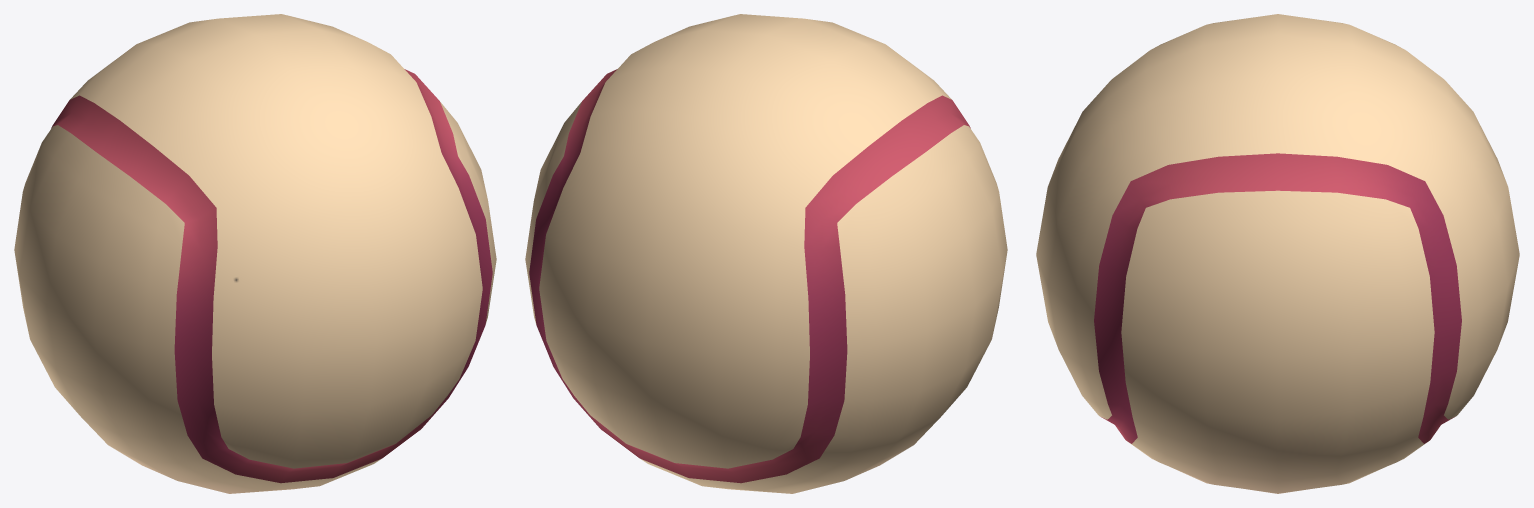
Rendered from baseball_ball.gltf.
3 renders of one model, left to right at view 1: azimuth 30°, elevation 25°; view 2: azimuth 150°, elevation 25°; view 3: azimuth 270°, elevation 25°, orthographic.
Parts seen in each view (by area): view 1: baseball_ball; view 2: baseball_ball; view 3: baseball_ball.
Part boxes in pixels (<box>): baseball_ball: <box>14,14,496,493</box>; baseball_ball: <box>525,14,1007,493</box>; baseball_ball: <box>1036,14,1519,493</box>.
Size of the model in its own units: 0.3845 by 0.3845 by 0.3845.
Materials: 1 (1 with a texture image).
